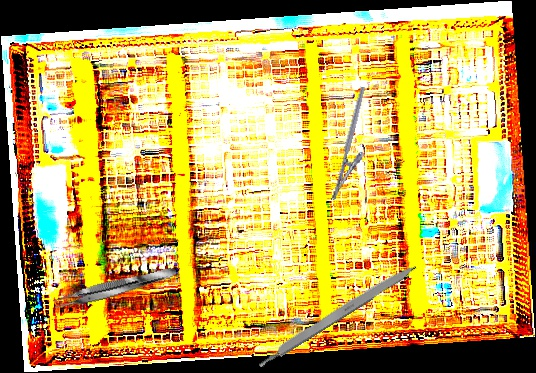Needle Holder: (330, 86, 381, 205)
Scalpel Handle: (254, 259, 419, 370)
Tissue Forceps: (51, 263, 179, 313)
